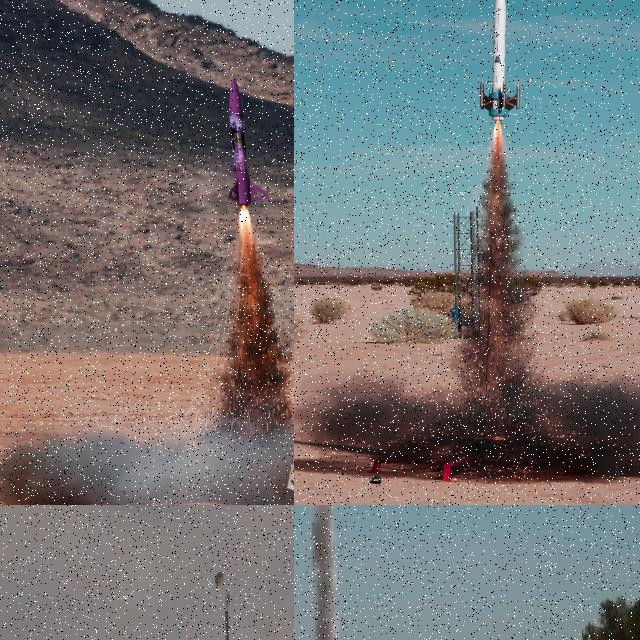Rocket: (225, 76, 271, 208), (478, 0, 521, 122)
